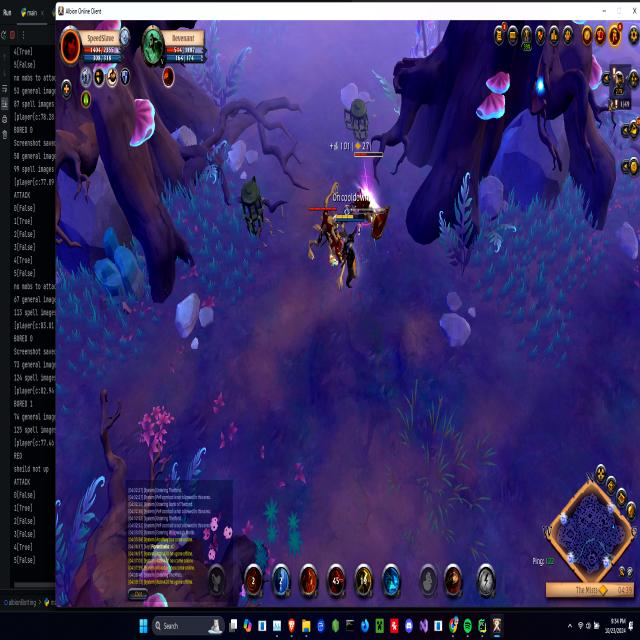ore: (350, 145, 392, 246), (305, 202, 336, 263)
red: (332, 207, 366, 296)
